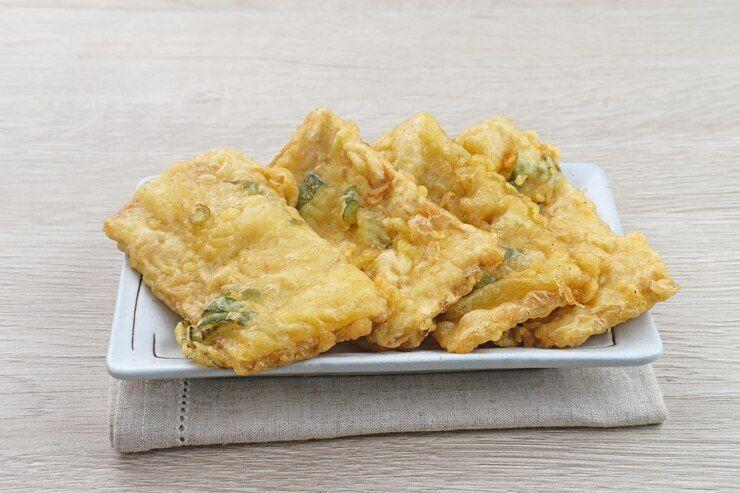kacang_legume: (106, 149, 394, 375), (266, 106, 504, 350), (371, 115, 588, 353), (453, 116, 677, 346)
